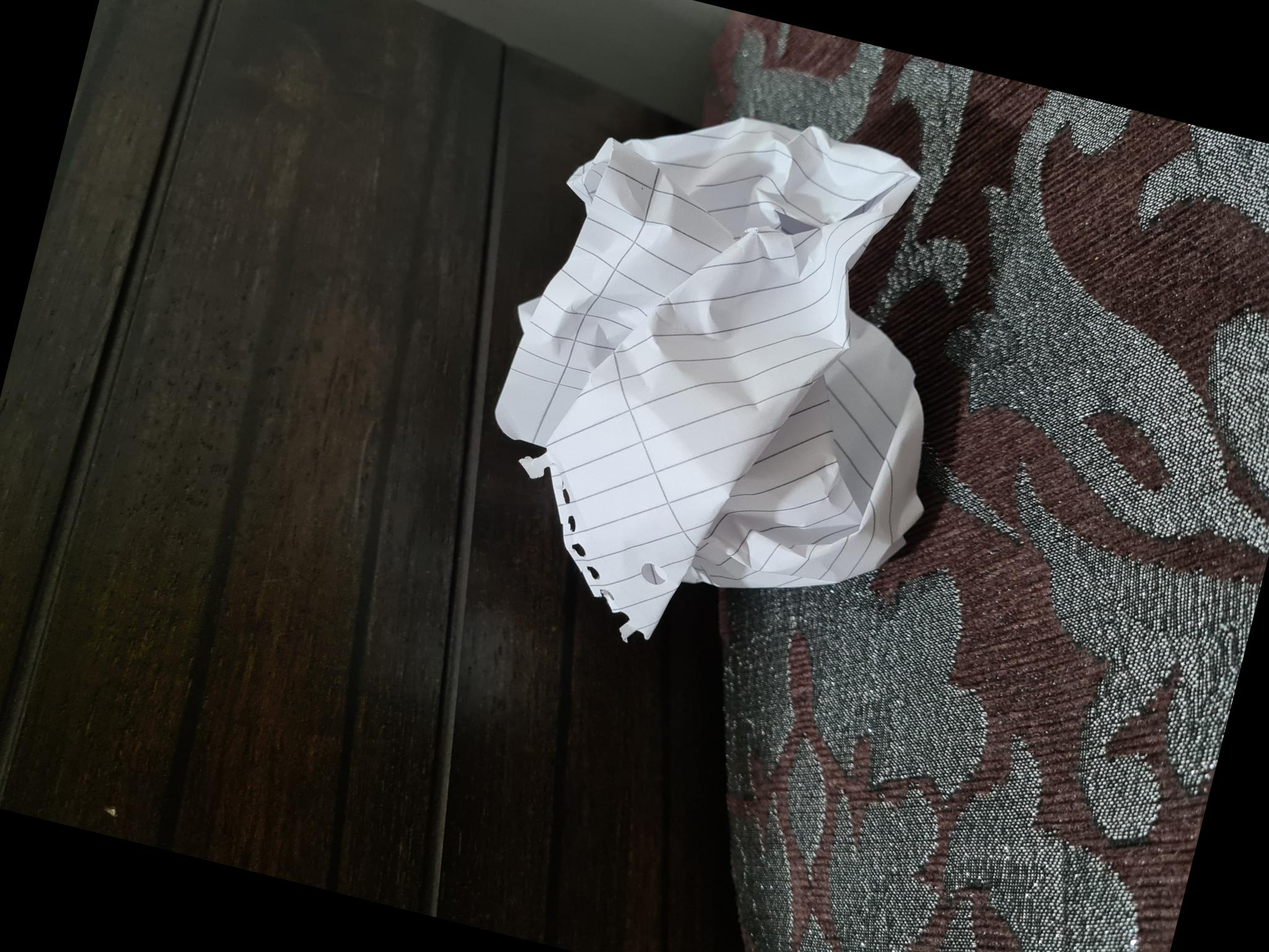Kertas: (280, 453, 799, 879)
